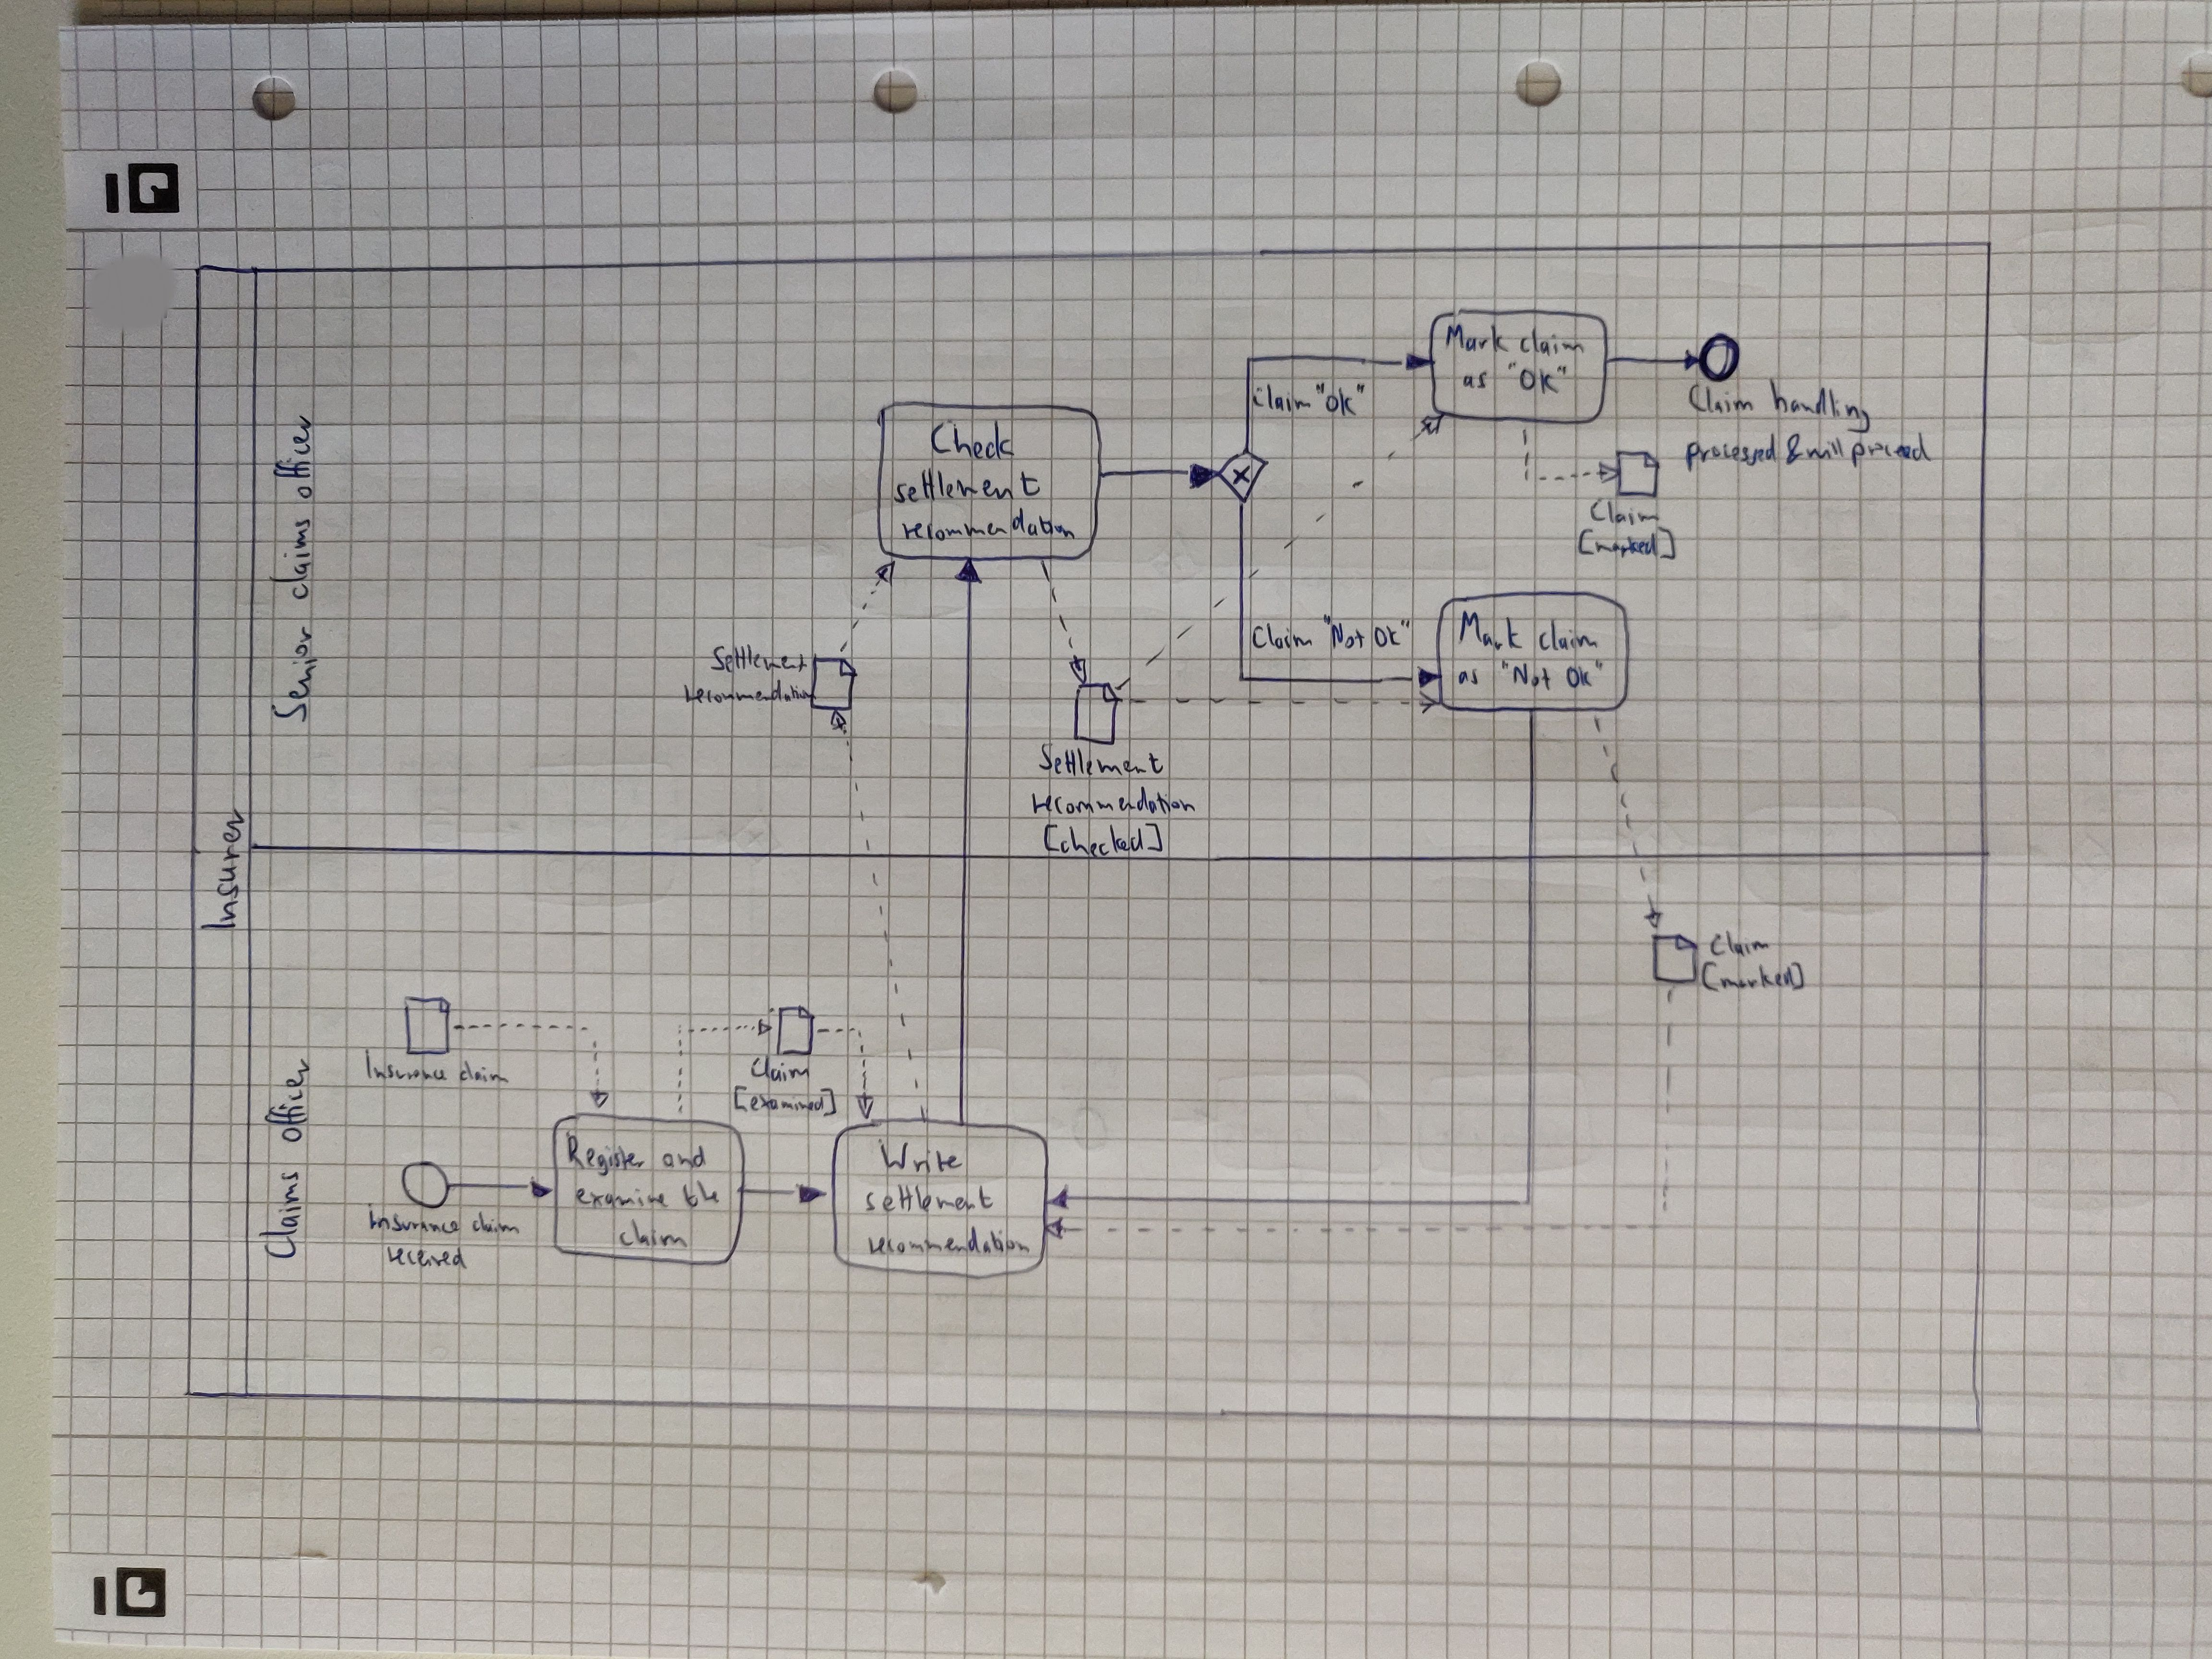&: (1784, 432, 1804, 469)
Check: (927, 416, 1017, 465)
Claim: (1684, 380, 1759, 420), (1583, 493, 1665, 528), (1247, 378, 1315, 418), (1247, 619, 1315, 655), (747, 1051, 813, 1086), (1707, 927, 1775, 960)
Claims: (254, 1168, 308, 1262)
Insurance: (362, 1046, 449, 1086)
Insurer: (195, 802, 247, 934)
Mark: (1453, 606, 1526, 655), (1440, 319, 1514, 357)
Not: (1496, 653, 1555, 695), (1320, 612, 1369, 653)
OK: (1503, 357, 1571, 399)
Ok: (1562, 657, 1608, 692), (1371, 617, 1413, 652)
Register: (563, 1127, 650, 1182)
Senior: (266, 620, 322, 725)
Settlement: (1033, 739, 1169, 779), (707, 640, 812, 678)
Write: (873, 1134, 967, 1180)
[checked]: (1042, 819, 1167, 861)
[examined]: (730, 1082, 840, 1121)
[marked]: (1698, 957, 1810, 997), (1575, 525, 1679, 565)
and: (658, 1140, 712, 1175)
as: (1460, 366, 1493, 394), (1453, 664, 1484, 690)
claim: (1534, 613, 1604, 657), (617, 1215, 693, 1253), (1515, 324, 1588, 361), (456, 1058, 514, 1087), (469, 1208, 523, 1239)
claims: (265, 514, 317, 605)
examine: (571, 1182, 672, 1213)
handling: (1766, 375, 1874, 437)
insurance: (364, 1199, 465, 1237)
officer: (261, 1054, 315, 1147), (268, 411, 317, 505)
ok: (1312, 380, 1367, 420)
proceed: (1846, 429, 1935, 474)
processed: (1681, 429, 1782, 479)
received: (383, 1243, 470, 1274)
recommendation: (897, 504, 1080, 547), (864, 1222, 1035, 1260), (1028, 782, 1198, 819), (679, 676, 820, 709)
settlement: (890, 464, 1045, 509), (860, 1180, 998, 1218)
the: (678, 1176, 725, 1211)
will: (1803, 432, 1850, 465)
